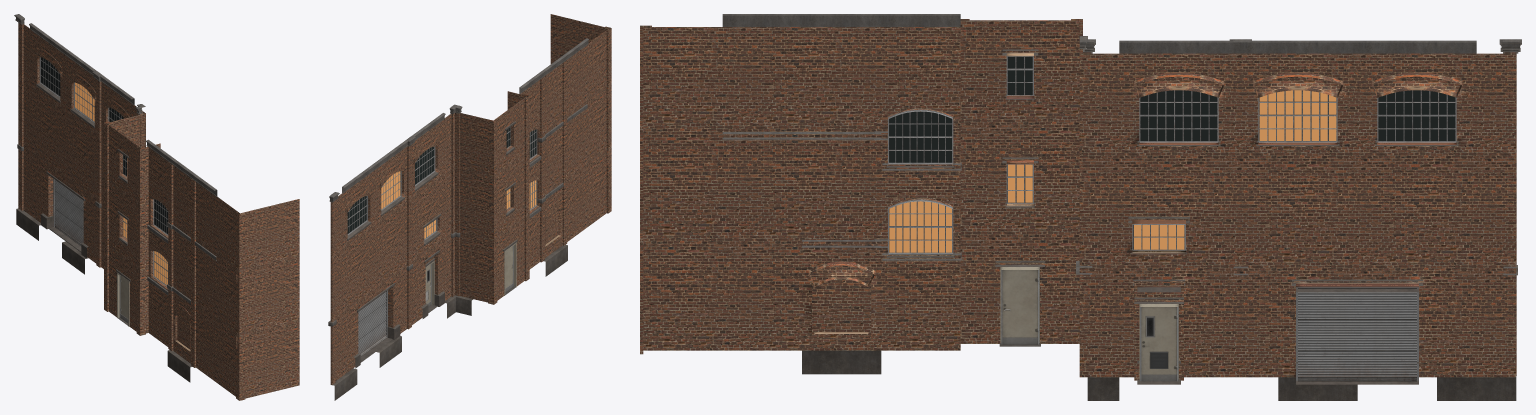
The model's file is factory_bay.glb.
The picture shows the model from 3 angles, left to right: view 1: azimuth 30°, elevation 25°; view 2: azimuth 150°, elevation 25°; view 3: azimuth 270°, elevation 25°; orthographic projection. The views are drawn at different scales.
Parts seen in each view (by area): view 1: factory_bay; view 2: factory_bay; view 3: factory_bay.
Boxes of the visible parts, x1,y1,x2,y2 form: factory_bay: (14, 14, 299, 400); factory_bay: (328, 14, 611, 400); factory_bay: (640, 14, 1521, 400).
Bounding box in the file's own units: 3.48 × 10.07 × 22.22.
Materials: 7 (5 with a texture image).
